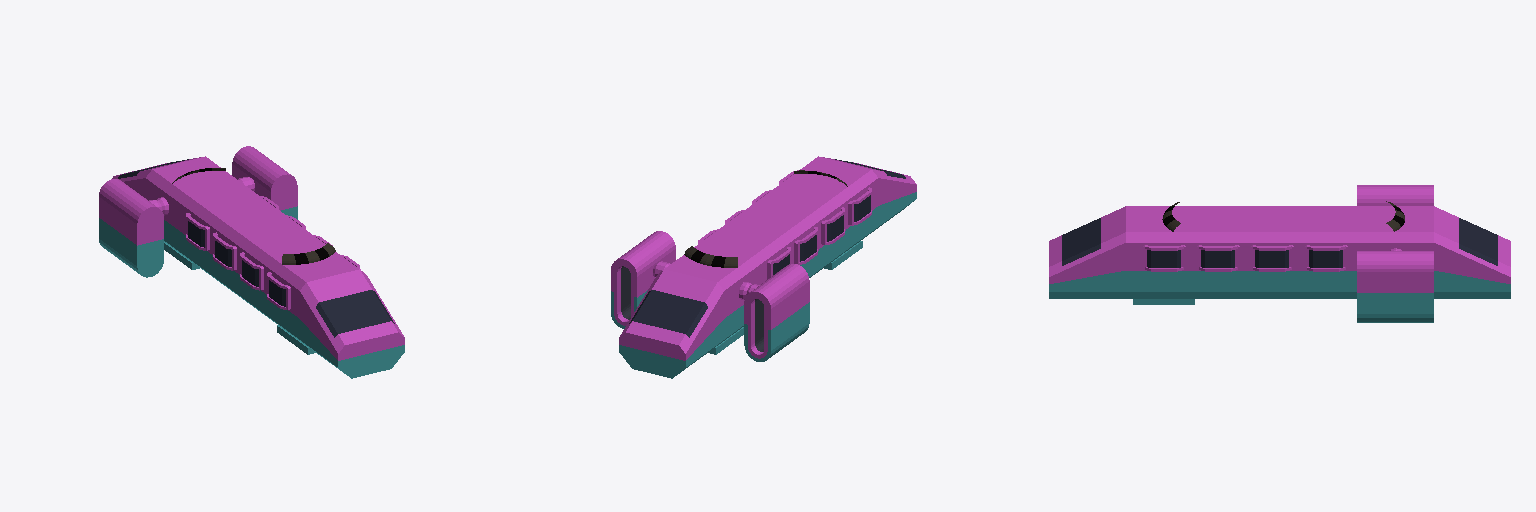
File: tram1.obj
3 views of the same model, side by side, from view 1: azimuth 30°, elevation 25°; view 2: azimuth 150°, elevation 25°; view 3: azimuth 270°, elevation 25° (orthographic).
Parts seen in each view (by area): view 1: mergedBlocks; view 2: mergedBlocks; view 3: mergedBlocks.
Part boxes in pixels (left/top/right/bottom): mergedBlocks: left=99, top=146, right=404, bottom=378; mergedBlocks: left=611, top=156, right=916, bottom=378; mergedBlocks: left=1049, top=185, right=1510, bottom=322.
Bounding box in the file's own units: 12 × 6.25 × 30.